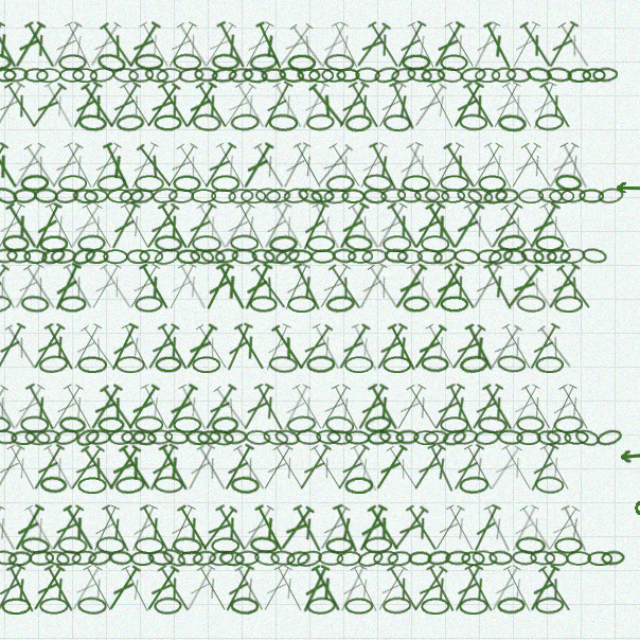chain: (118, 54, 148, 76), (179, 521, 205, 544), (334, 397, 363, 417), (487, 237, 514, 258), (370, 169, 399, 188), (352, 226, 381, 245), (64, 340, 93, 359), (496, 340, 525, 359), (298, 397, 327, 416), (136, 454, 165, 473), (20, 180, 46, 201), (94, 237, 120, 258), (98, 408, 124, 429), (307, 181, 334, 201), (172, 238, 199, 258), (286, 238, 313, 258), (364, 523, 391, 543), (263, 55, 291, 74), (209, 112, 237, 131), (497, 226, 525, 245), (461, 340, 489, 359), (11, 397, 39, 416), (371, 397, 399, 416), (263, 511, 291, 530), (334, 56, 363, 74), (478, 398, 507, 416), (190, 512, 219, 530), (435, 238, 461, 258), (444, 409, 470, 429), (569, 409, 595, 429), (590, 409, 616, 429), (307, 523, 333, 543), (551, 169, 578, 188), (101, 113, 129, 131), (137, 113, 165, 131), (389, 113, 417, 131), (497, 113, 525, 131), (119, 170, 147, 188), (335, 170, 363, 188), (173, 227, 201, 245), (281, 227, 309, 245), (11, 284, 39, 302), (47, 284, 75, 302), (335, 284, 363, 302), (281, 341, 309, 359), (47, 512, 75, 530), (380, 67, 406, 86), (65, 238, 91, 257), (78, 409, 104, 428), (550, 398, 579, 415), (82, 512, 111, 529), (118, 512, 147, 529), (514, 512, 543, 529), (353, 113, 380, 131), (83, 398, 110, 416), (227, 398, 254, 416), (11, 56, 39, 73), (227, 56, 255, 73), (245, 113, 273, 130), (281, 113, 309, 130), (515, 284, 543, 301), (173, 455, 201, 472), (245, 455, 273, 472), (461, 455, 489, 472), (101, 569, 129, 586), (317, 569, 345, 586), (518, 238, 543, 257), (110, 523, 135, 542), (396, 68, 422, 86), (458, 182, 484, 200), (468, 182, 494, 200), (216, 239, 242, 257), (224, 410, 250, 428), (275, 410, 301, 428), (286, 410, 312, 428), (69, 524, 95, 542), (155, 56, 182, 73), (191, 56, 218, 73), (317, 113, 344, 130), (461, 113, 488, 130), (533, 113, 560, 130), (47, 170, 74, 187), (101, 227, 128, 244), (245, 227, 272, 244), (317, 341, 344, 358), (425, 341, 452, 358), (47, 398, 74, 415), (155, 398, 182, 415), (515, 398, 542, 415), (65, 455, 92, 472), (533, 455, 560, 472), (371, 512, 398, 529), (173, 569, 200, 586), (245, 569, 272, 586), (389, 569, 416, 586), (497, 569, 524, 586), (533, 569, 560, 586), (483, 182, 508, 200), (206, 239, 231, 257), (264, 239, 289, 257), (297, 524, 322, 542), (155, 171, 183, 187), (443, 171, 471, 187), (209, 228, 237, 244), (101, 342, 129, 358), (137, 342, 165, 358), (101, 456, 129, 472), (155, 513, 183, 529), (29, 570, 57, 586), (65, 570, 93, 586), (461, 570, 489, 586), (290, 68, 316, 85), (411, 68, 437, 85), (30, 227, 56, 244), (576, 239, 602, 256), (224, 524, 250, 541), (267, 524, 293, 541), (83, 57, 110, 73), (299, 57, 326, 73), (407, 57, 434, 73), (443, 57, 470, 73), (173, 114, 200, 130), (83, 171, 110, 187), (191, 171, 218, 187), (227, 171, 254, 187), (407, 171, 434, 187), (479, 171, 506, 187), (65, 228, 92, 244), (317, 228, 344, 244), (389, 228, 416, 244), (425, 228, 452, 244), (533, 228, 560, 244), (83, 285, 110, 301), (155, 285, 182, 301), (263, 285, 290, 301), (299, 285, 326, 301), (443, 285, 470, 301), (551, 285, 578, 301), (209, 342, 236, 358), (353, 342, 380, 358), (389, 342, 416, 358), (533, 342, 560, 358), (191, 399, 218, 415), (443, 399, 470, 415), (353, 456, 380, 472), (227, 513, 254, 529), (335, 513, 362, 529), (551, 513, 578, 529), (353, 570, 380, 586), (425, 570, 452, 586), (112, 68, 137, 85), (440, 68, 465, 85), (462, 68, 487, 85), (524, 68, 549, 85), (543, 68, 568, 85), (171, 182, 196, 199), (295, 182, 320, 199), (535, 182, 560, 199), (592, 182, 617, 199), (556, 239, 581, 256), (20, 410, 45, 427), (182, 410, 207, 427), (385, 410, 410, 427), (455, 410, 480, 427), (543, 410, 568, 427), (20, 524, 45, 541), (95, 524, 120, 541), (167, 524, 192, 541), (430, 524, 455, 541), (473, 524, 498, 541), (408, 285, 434, 301), (174, 342, 200, 358), (120, 399, 146, 415), (164, 68, 188, 85), (79, 182, 103, 199), (402, 182, 426, 199), (230, 239, 254, 256), (209, 524, 233, 541), (134, 69, 159, 85), (175, 69, 200, 85), (196, 69, 221, 85), (227, 69, 252, 85), (243, 69, 268, 85), (256, 69, 281, 85), (505, 69, 530, 85), (96, 183, 121, 199), (243, 183, 268, 199), (278, 183, 303, 199), (333, 183, 358, 199), (428, 183, 453, 199), (246, 240, 271, 256), (369, 240, 394, 256), (421, 240, 446, 256), (456, 240, 481, 256), (51, 411, 76, 427), (259, 411, 284, 427), (336, 411, 361, 427), (427, 411, 452, 427), (475, 411, 500, 427), (195, 525, 220, 541), (234, 525, 259, 541), (345, 525, 370, 541), (140, 183, 164, 199), (150, 183, 174, 199), (370, 183, 394, 199), (502, 240, 526, 256), (152, 411, 176, 427), (203, 411, 227, 427), (374, 411, 398, 427), (534, 411, 558, 427), (35, 525, 59, 541), (393, 525, 417, 541), (541, 525, 565, 541), (491, 69, 516, 84), (75, 240, 100, 255), (61, 411, 86, 426), (108, 411, 133, 426), (130, 411, 155, 426), (497, 411, 522, 426), (31, 69, 55, 84), (149, 69, 173, 84), (363, 69, 387, 84), (587, 69, 611, 84), (269, 183, 293, 198), (387, 183, 411, 198), (419, 183, 443, 198), (557, 183, 581, 198), (21, 240, 45, 255), (276, 240, 300, 255), (341, 240, 365, 255), (390, 240, 414, 255), (543, 240, 567, 255), (142, 411, 166, 426), (167, 411, 191, 426), (238, 411, 262, 426), (307, 411, 331, 426), (326, 411, 350, 426), (55, 525, 79, 540), (81, 525, 105, 540), (130, 525, 154, 540), (249, 525, 273, 540), (283, 525, 307, 540), (328, 525, 352, 540), (380, 525, 404, 540), (448, 525, 472, 540), (511, 525, 535, 540), (528, 525, 552, 540), (211, 69, 234, 84), (40, 183, 63, 198), (60, 183, 83, 198), (495, 183, 518, 198), (34, 240, 57, 255), (401, 411, 424, 426), (489, 525, 512, 540), (595, 525, 618, 540), (50, 70, 74, 84), (62, 70, 86, 84), (84, 70, 108, 84), (96, 70, 120, 84), (274, 70, 298, 84), (319, 70, 343, 84), (331, 70, 355, 84), (476, 70, 500, 84), (129, 184, 153, 198), (187, 184, 211, 198), (208, 184, 232, 198), (227, 184, 251, 198), (255, 184, 279, 198), (517, 184, 541, 198), (546, 184, 570, 198), (574, 184, 598, 198), (125, 241, 149, 255), (299, 241, 323, 255), (321, 241, 345, 255), (356, 241, 380, 255), (403, 241, 427, 255), (478, 241, 502, 255), (38, 412, 62, 426), (353, 412, 377, 426), (418, 412, 442, 426), (515, 412, 539, 426), (560, 412, 584, 426), (562, 526, 586, 540), (582, 526, 606, 540), (21, 70, 44, 84), (308, 70, 331, 84), (345, 70, 368, 84), (425, 70, 448, 84), (563, 70, 586, 84), (577, 70, 600, 84), (107, 184, 130, 198), (321, 184, 344, 198), (350, 184, 373, 198), (444, 184, 467, 198), (50, 241, 73, 255), (108, 241, 131, 255), (147, 241, 170, 255), (159, 241, 182, 255), (194, 241, 217, 255), (531, 241, 554, 255), (214, 412, 237, 426), (151, 526, 174, 540), (413, 526, 436, 540), (463, 526, 486, 540)
double: (316, 82, 358, 129), (322, 139, 364, 186), (286, 25, 327, 73), (298, 25, 339, 73), (262, 253, 303, 301), (550, 253, 591, 301), (226, 367, 267, 415), (214, 481, 255, 529), (394, 481, 435, 529), (154, 139, 195, 186), (502, 253, 543, 300), (532, 310, 573, 357), (119, 25, 159, 73), (359, 25, 399, 73), (53, 82, 93, 130), (101, 82, 141, 130), (161, 82, 201, 130), (233, 82, 273, 130), (413, 82, 453, 130), (47, 139, 87, 187), (497, 196, 537, 244), (0, 253, 40, 301), (515, 253, 555, 301), (101, 310, 141, 358), (305, 310, 345, 358), (413, 310, 453, 358), (449, 310, 489, 358), (119, 367, 159, 415), (89, 424, 129, 472), (101, 424, 141, 472), (287, 481, 327, 529), (413, 538, 453, 586), (107, 24, 146, 73), (191, 24, 230, 73), (215, 24, 254, 73), (515, 24, 554, 73), (551, 24, 590, 73), (29, 81, 68, 130), (137, 81, 176, 130), (209, 81, 248, 130), (0, 138, 39, 187), (71, 138, 110, 187), (179, 138, 218, 187), (215, 138, 254, 187), (335, 138, 374, 187), (443, 138, 482, 187), (89, 195, 128, 244), (353, 195, 392, 244), (119, 252, 158, 301), (323, 252, 362, 301), (395, 252, 434, 301), (29, 309, 68, 358), (209, 309, 248, 358), (35, 366, 74, 415), (71, 366, 110, 415), (143, 366, 182, 415), (137, 423, 176, 472), (245, 423, 284, 472), (305, 423, 344, 472), (317, 423, 356, 472), (341, 423, 380, 472), (377, 423, 416, 472), (413, 423, 452, 472), (71, 480, 110, 529), (371, 480, 410, 529), (515, 480, 554, 529), (125, 537, 164, 586), (191, 139, 230, 187), (161, 196, 200, 244), (47, 253, 86, 301), (335, 253, 374, 301), (371, 253, 410, 301), (281, 310, 320, 358), (485, 310, 524, 358), (0, 367, 39, 415), (125, 424, 164, 472), (389, 424, 428, 472), (485, 424, 524, 472), (539, 481, 578, 529), (161, 538, 200, 586), (533, 538, 572, 586), (36, 24, 74, 73), (144, 24, 182, 73), (372, 24, 410, 73), (126, 81, 164, 130), (174, 81, 212, 130), (198, 81, 236, 130), (246, 81, 284, 130), (450, 81, 488, 130), (462, 81, 500, 130), (498, 81, 536, 130), (534, 81, 572, 130), (12, 138, 50, 187), (36, 138, 74, 187), (108, 138, 146, 187), (264, 138, 302, 187), (408, 138, 446, 187), (468, 138, 506, 187), (504, 138, 542, 187), (516, 138, 554, 187), (540, 138, 578, 187), (30, 195, 68, 244), (210, 195, 248, 244), (234, 195, 272, 244), (282, 195, 320, 244), (378, 195, 416, 244), (390, 195, 428, 244), (426, 195, 464, 244), (450, 195, 488, 244), (462, 195, 500, 244), (486, 195, 524, 244), (108, 252, 146, 301), (144, 252, 182, 301), (408, 252, 446, 301), (444, 252, 482, 301), (468, 252, 506, 301), (540, 252, 578, 301), (54, 309, 92, 358), (162, 309, 200, 358), (198, 309, 236, 358), (342, 309, 380, 358), (108, 366, 146, 415), (180, 366, 218, 415), (216, 366, 254, 415), (300, 366, 338, 415), (324, 366, 362, 415), (408, 366, 446, 415), (432, 366, 470, 415), (468, 366, 506, 415), (516, 366, 554, 415), (54, 423, 92, 472), (270, 423, 308, 472), (282, 423, 320, 472), (450, 423, 488, 472), (84, 480, 122, 529), (192, 480, 230, 529), (228, 480, 266, 529), (252, 480, 290, 529), (324, 480, 362, 529), (408, 480, 446, 529), (432, 480, 470, 529), (54, 537, 92, 586), (90, 537, 128, 586), (174, 537, 212, 586), (378, 537, 416, 586), (390, 537, 428, 586), (48, 24, 85, 73), (72, 24, 109, 73), (156, 24, 193, 73), (180, 24, 217, 73), (432, 24, 469, 73), (444, 24, 481, 73), (540, 24, 577, 73), (18, 81, 55, 130), (66, 81, 103, 130), (282, 81, 319, 130), (342, 81, 379, 130), (354, 81, 391, 130), (378, 81, 415, 130), (228, 138, 265, 187), (252, 138, 289, 187), (432, 138, 469, 187), (102, 195, 139, 244), (138, 195, 175, 244), (174, 195, 211, 244), (198, 195, 235, 244), (342, 195, 379, 244), (414, 195, 451, 244), (522, 195, 559, 244), (534, 195, 571, 244), (12, 252, 49, 301), (36, 252, 73, 301), (84, 252, 121, 301), (156, 252, 193, 301), (192, 252, 229, 301), (432, 252, 469, 301), (174, 309, 211, 358), (246, 309, 283, 358), (378, 309, 415, 358), (426, 309, 463, 358), (498, 309, 535, 358), (522, 309, 559, 358), (12, 366, 49, 415), (84, 366, 121, 415), (252, 366, 289, 415), (360, 366, 397, 415), (372, 366, 409, 415), (396, 366, 433, 415), (480, 366, 517, 415), (504, 366, 541, 415), (552, 366, 589, 415), (18, 423, 55, 472), (66, 423, 103, 472), (174, 423, 211, 472), (210, 423, 247, 472), (234, 423, 271, 472), (462, 423, 499, 472), (498, 423, 535, 472), (534, 423, 571, 472), (12, 480, 49, 529), (36, 480, 73, 529), (48, 480, 85, 529), (198, 537, 235, 586), (210, 537, 247, 586), (246, 537, 283, 586), (270, 537, 307, 586), (318, 537, 355, 586), (486, 537, 523, 586), (522, 537, 559, 586), (463, 309, 499, 359), (289, 366, 325, 416), (301, 480, 337, 530), (361, 480, 397, 530), (499, 537, 535, 587), (13, 24, 49, 73), (229, 24, 265, 73), (253, 24, 289, 73), (397, 24, 433, 73), (505, 24, 541, 73), (91, 81, 127, 130), (271, 81, 307, 130), (487, 81, 523, 130), (85, 138, 121, 187), (145, 138, 181, 187), (289, 138, 325, 187), (301, 138, 337, 187), (361, 138, 397, 187), (481, 138, 517, 187), (553, 138, 589, 187), (19, 195, 55, 244), (67, 195, 103, 244), (127, 195, 163, 244), (247, 195, 283, 244), (271, 195, 307, 244), (319, 195, 355, 244), (181, 252, 217, 301), (229, 252, 265, 301), (361, 252, 397, 301), (481, 252, 517, 301), (19, 309, 55, 358), (67, 309, 103, 358), (91, 309, 127, 358), (319, 309, 355, 358), (49, 366, 85, 415), (157, 366, 193, 415), (193, 366, 229, 415), (265, 366, 301, 415), (31, 423, 67, 472), (163, 423, 199, 472), (199, 423, 235, 472), (157, 480, 193, 529), (265, 480, 301, 529), (445, 480, 481, 529), (19, 537, 55, 586), (67, 537, 103, 586), (103, 537, 139, 586), (235, 537, 271, 586), (283, 537, 319, 586), (427, 537, 463, 586), (451, 537, 487, 586), (463, 537, 499, 586), (1, 24, 36, 74), (85, 24, 120, 74), (325, 24, 360, 74), (337, 24, 372, 74), (409, 24, 444, 74), (469, 24, 504, 74), (481, 24, 516, 74), (307, 81, 342, 131), (427, 81, 462, 131), (373, 138, 408, 188), (55, 195, 90, 245), (217, 252, 252, 302), (253, 252, 288, 302), (301, 252, 336, 302), (127, 309, 162, 359), (139, 309, 174, 359), (391, 309, 426, 359), (337, 366, 372, 416), (541, 366, 576, 416), (355, 423, 390, 473), (523, 423, 558, 473), (1, 480, 36, 530), (109, 480, 144, 530), (121, 480, 156, 530), (181, 480, 216, 530), (469, 480, 504, 530), (481, 480, 516, 530), (505, 480, 540, 530), (31, 537, 66, 587), (139, 537, 174, 587), (343, 537, 378, 587), (355, 537, 390, 587), (266, 24, 300, 74), (122, 138, 156, 188), (308, 195, 342, 245), (74, 252, 108, 302), (290, 252, 324, 302), (236, 309, 270, 359), (272, 309, 306, 359), (356, 309, 390, 359), (446, 366, 480, 416), (428, 423, 462, 473), (146, 480, 180, 530), (554, 480, 588, 530), (308, 537, 342, 587), (392, 81, 425, 131), (524, 81, 557, 131), (399, 138, 431, 188), (339, 480, 371, 530)
noise: (1, 192, 22, 213), (611, 430, 640, 443), (0, 304, 17, 321), (625, 476, 640, 495), (607, 178, 633, 188)
